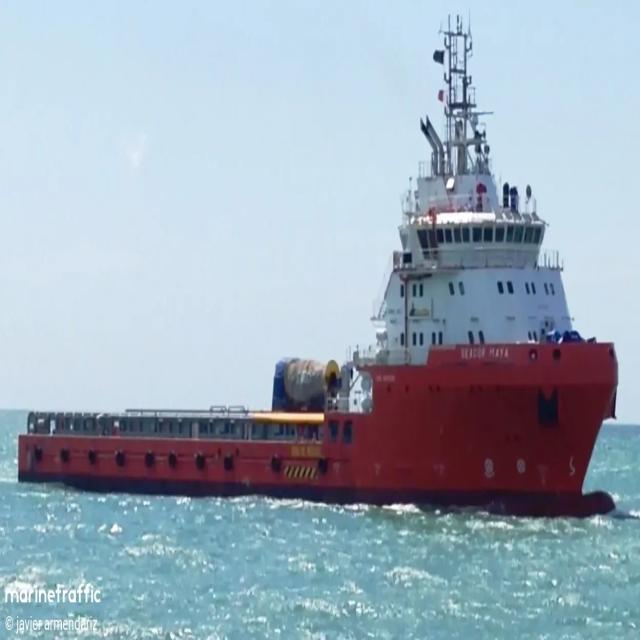Offshore: (18, 17, 618, 518)
